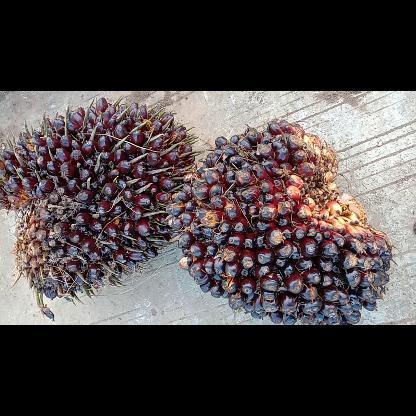TBS mentah: (170, 120, 392, 324), (0, 97, 197, 299)
